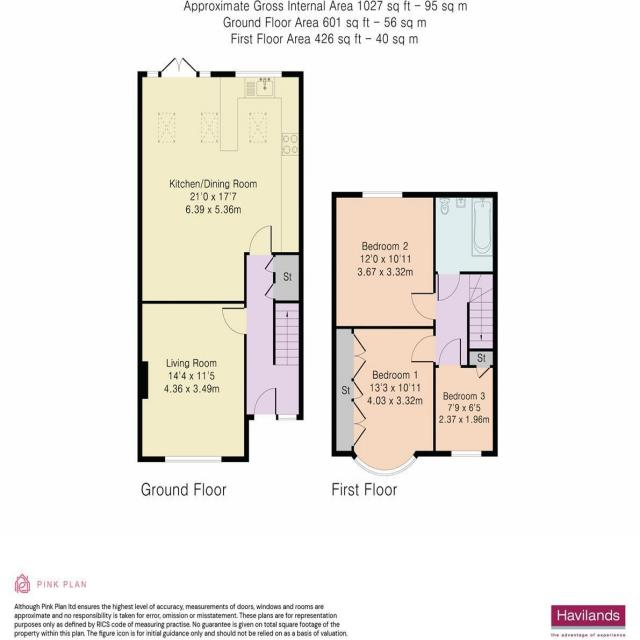DOOR: (251, 386, 279, 420), (220, 303, 247, 335), (248, 224, 273, 254), (411, 335, 436, 363), (437, 271, 460, 301), (438, 338, 461, 368), (411, 293, 436, 320)
DOUBLE DOOR: (161, 55, 199, 78)
ROOM: (137, 56, 304, 304), (137, 300, 249, 462), (331, 325, 436, 476), (331, 191, 436, 330), (433, 337, 498, 457)
WINDOW: (351, 449, 419, 479), (163, 454, 224, 464), (361, 190, 404, 200), (234, 70, 283, 78), (448, 448, 485, 458)
